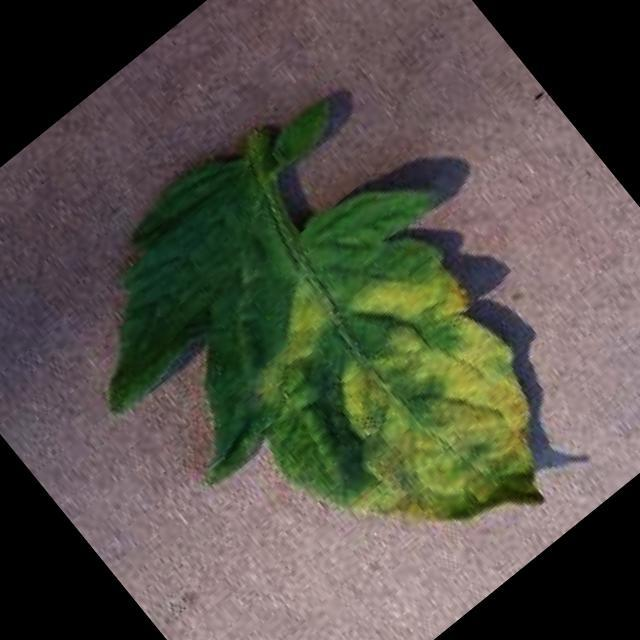Tomato mold leaf: (23, 55, 633, 640)
